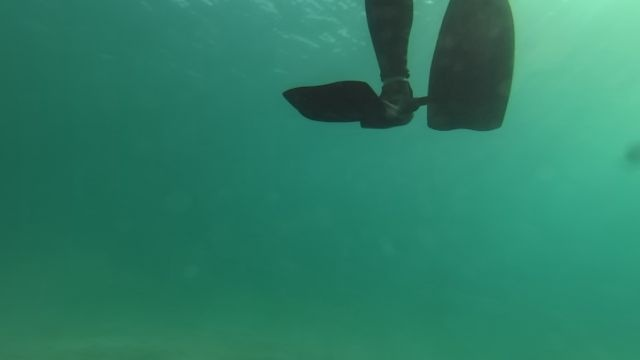Diver: (278, 0, 533, 141)
